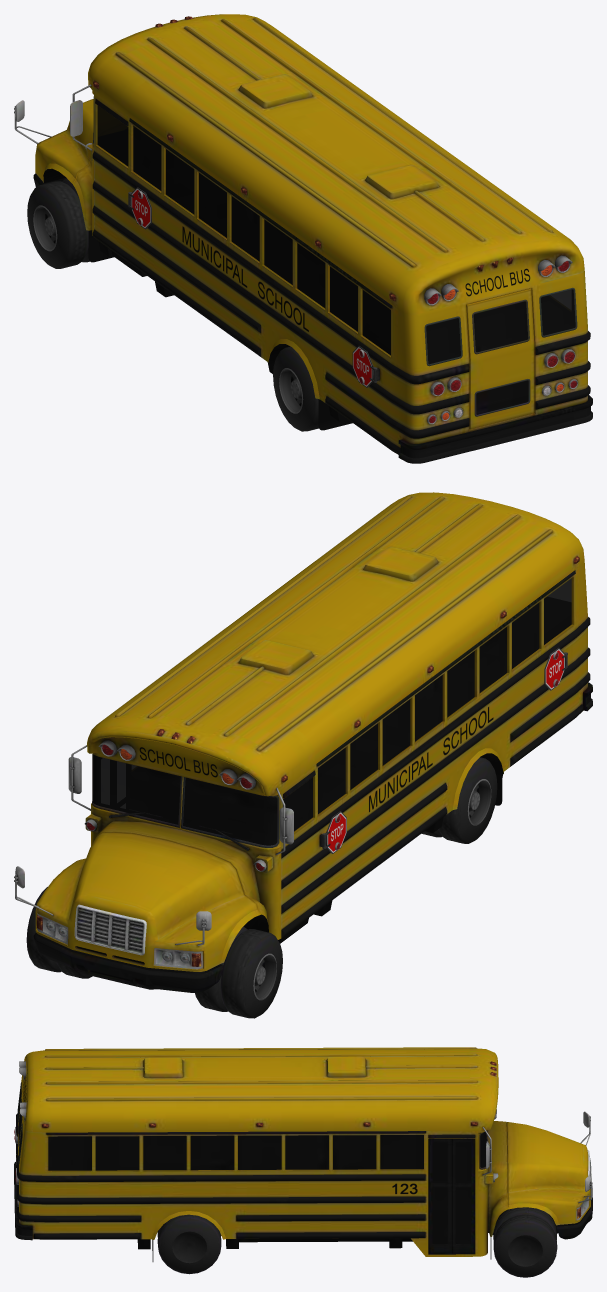
The model's file is school_bus.glb.
3 renders of one model, top to bottom at view 1: azimuth 30°, elevation 25°; view 2: azimuth 150°, elevation 25°; view 3: azimuth 270°, elevation 25°, orthographic. The views are drawn at different scales.
Visible parts, largest first — view 1: school_bus, wheel_0, wheel_3; view 2: school_bus, wheel_0, wheel_3, wheel_1; view 3: school_bus, wheel_1, wheel_2.
Boxes of the visible parts, x1,y1,x2,y2 form: school_bus: (14, 14, 592, 463); wheel_0: (27, 178, 89, 268); wheel_3: (273, 346, 318, 431); school_bus: (14, 492, 592, 992); wheel_0: (195, 926, 282, 1018); wheel_3: (421, 757, 497, 843); wheel_1: (26, 887, 92, 978); school_bus: (14, 1047, 592, 1261); wheel_1: (493, 1207, 557, 1277); wheel_2: (157, 1214, 221, 1274).
Bounding box in the file's own units: 2.67 × 2.79 × 8.28.
4 materials, 4 textured.
